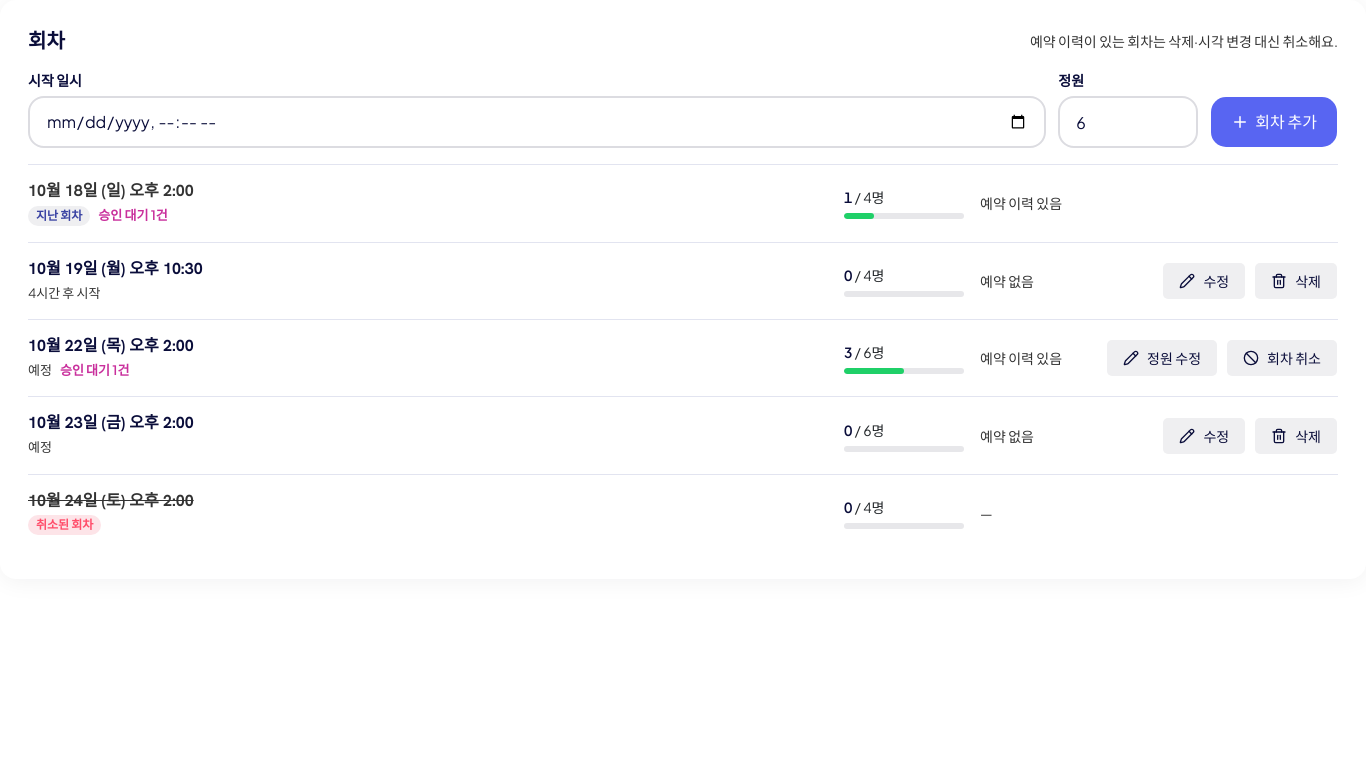
Test case: 회차 추가 › R-46: 과거·현재·빈 시작 시각 는 필드 오류로 막는다
The width and height of the screenshot is (1366, 768).
Expected: the table named "회차 목록" is shown, top-left (28, 164), bottom-right (1338, 552)
Replace the text in the field labelled "정원" with "8" at (1128, 122), box top-left (1058, 96), bottom-right (1198, 148)
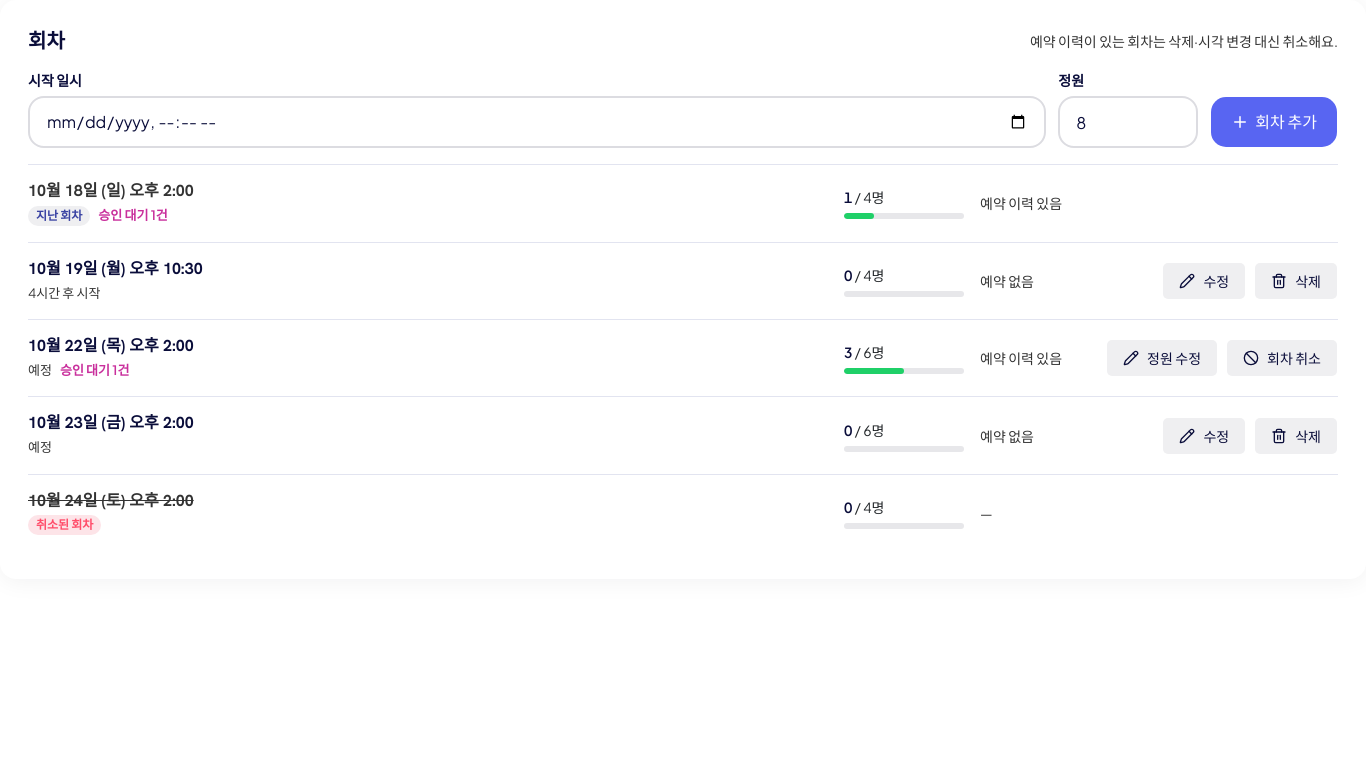
Click the button "회차 추가" at (1274, 122), box top-left (1210, 96), bottom-right (1338, 148)
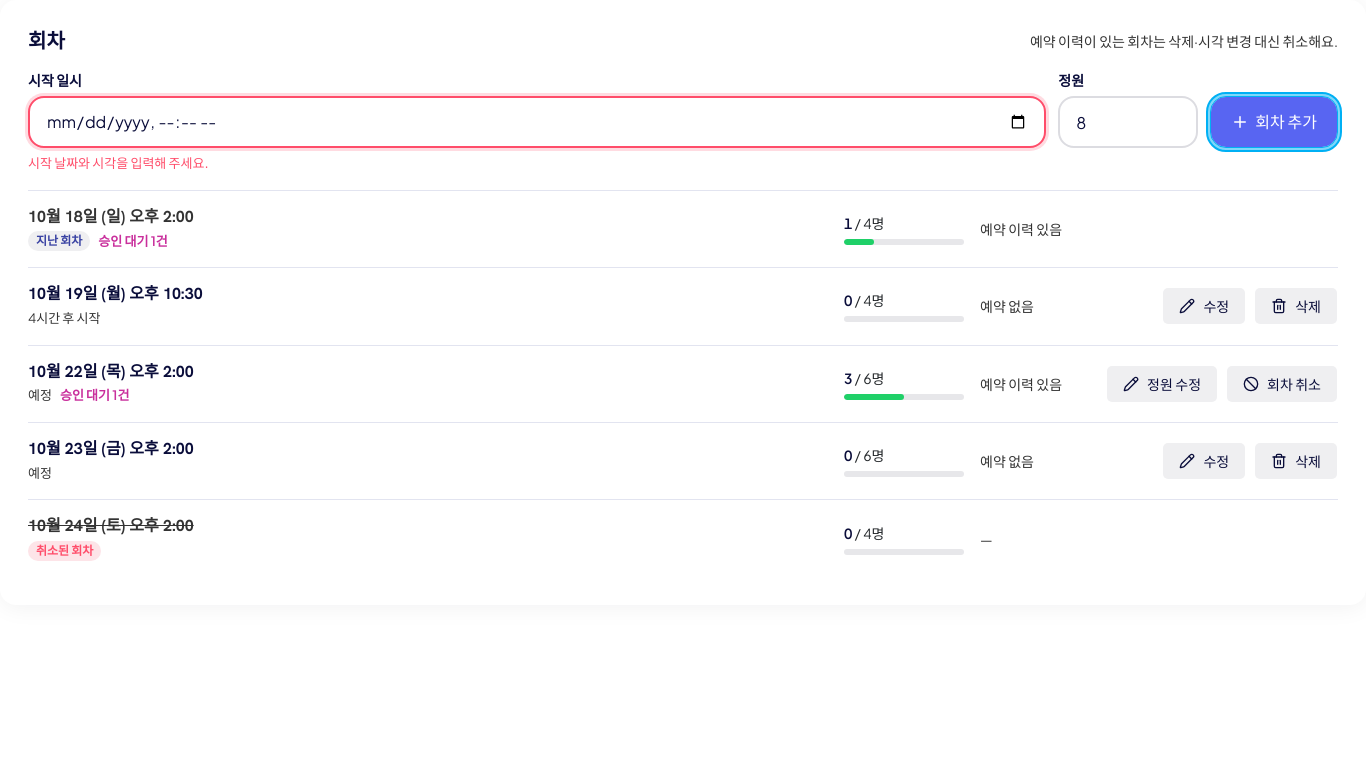
Expected: the message reads "시작 날짜와 시각을 입력해 주세요.", top-left (28, 155), bottom-right (209, 171)
